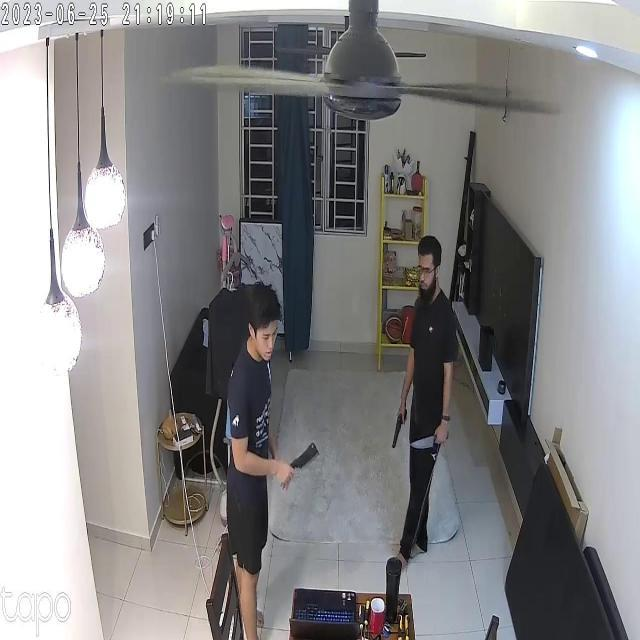Gun: (385, 400, 412, 458)
Knife: (282, 433, 326, 481), (414, 427, 454, 455)
